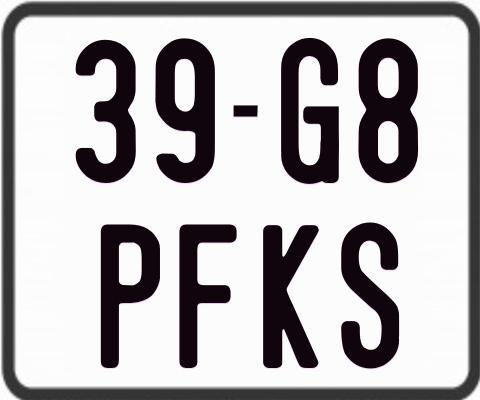3: (74, 40, 134, 185)
8: (355, 35, 417, 180)
9: (155, 38, 221, 187)
F: (179, 221, 241, 366)
G: (279, 36, 342, 183)
K: (263, 223, 319, 367)
P: (98, 221, 158, 370)
S: (339, 219, 397, 368)
